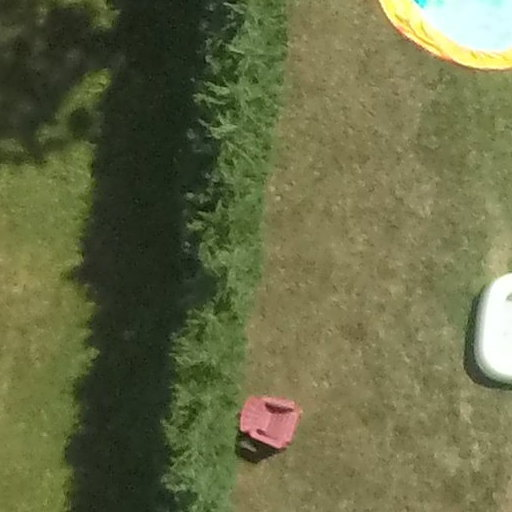chair: (238, 384, 309, 464)
